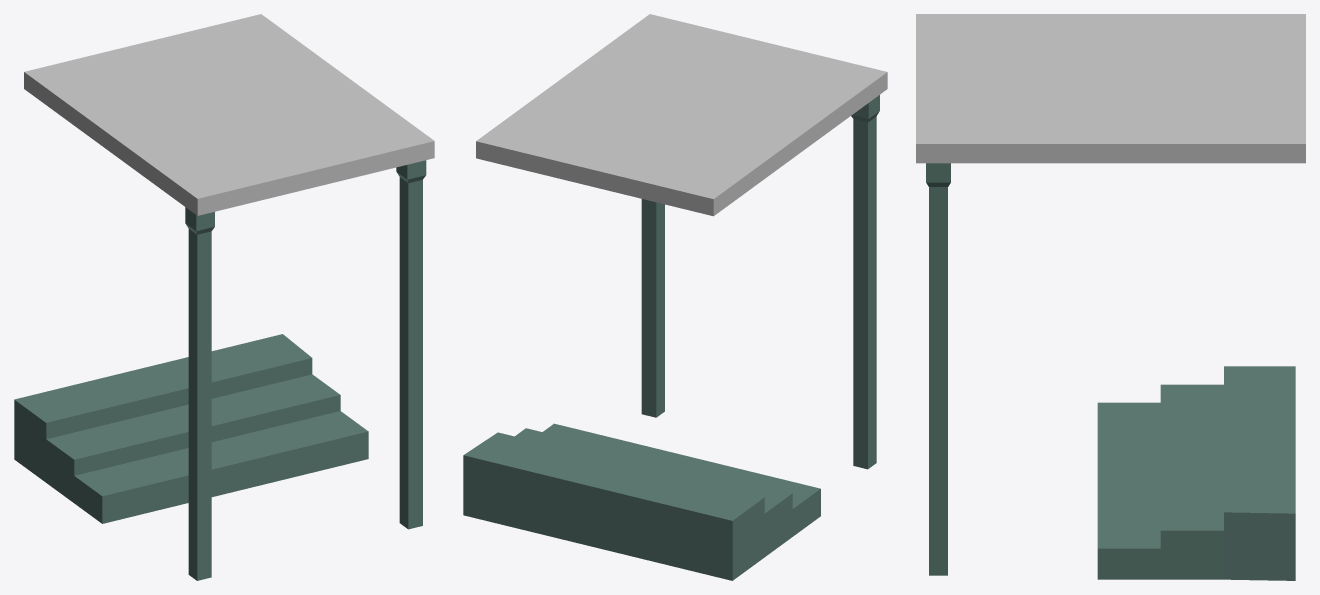
File: Stairs_Roof.glb
3 views of the same model, side by side, from view 1: azimuth 30°, elevation 25°; view 2: azimuth 150°, elevation 25°; view 3: azimuth 270°, elevation 25° (orthographic). The views are drawn at different scales.
Parts seen in each view (by area): view 1: Stairs_Roof; view 2: Stairs_Roof; view 3: Stairs_Roof.
Part boxes in pixels (bbox=[...]): Stairs_Roof: bbox=[14, 14, 434, 580]; Stairs_Roof: bbox=[463, 14, 887, 580]; Stairs_Roof: bbox=[916, 14, 1305, 580].
Size of the model in its own units: 0.8455 by 1.17 by 0.9463.
Materials: 1 (1 with a texture image).
